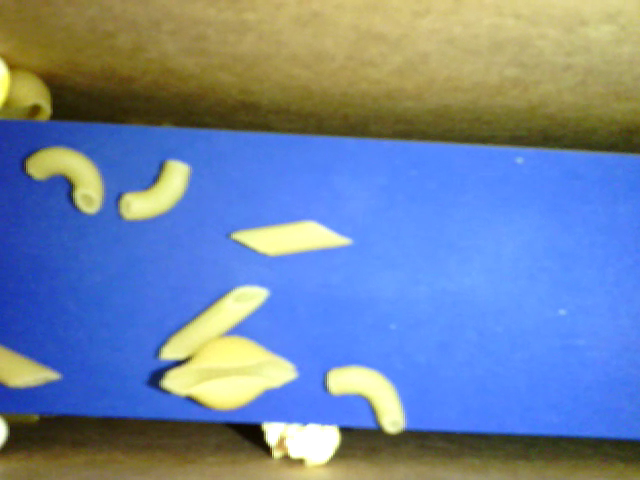elbow: (326, 363, 406, 439), (22, 144, 105, 215), (118, 157, 192, 226)
penne: (155, 284, 274, 366), (225, 214, 353, 258), (1, 344, 66, 391)
shell: (157, 334, 299, 411), (1, 68, 54, 127)
